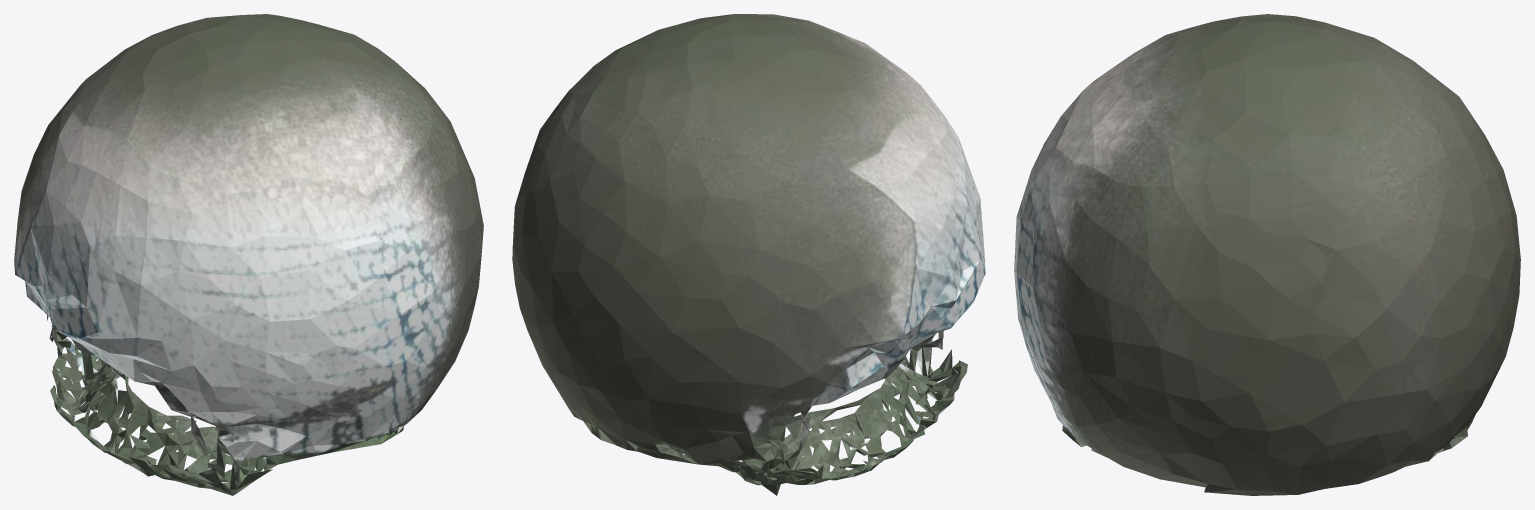
File: biosfera.glb
3 renders of one model, left to right at view 1: azimuth 30°, elevation 25°; view 2: azimuth 150°, elevation 25°; view 3: azimuth 270°, elevation 25°, orthographic. The views are drawn at different scales.
Visible parts, largest first — view 1: tmp8i0pzpaj.ply; view 2: tmp8i0pzpaj.ply; view 3: tmp8i0pzpaj.ply.
Part boxes in pixels (x1,y1,x2,y2): tmp8i0pzpaj.ply: (14,14,483,495); tmp8i0pzpaj.ply: (512,14,985,495); tmp8i0pzpaj.ply: (1014,14,1520,495).
Size of the model in its own units: 1.98 by 1.77 by 1.98.
1 material, 1 textured.
